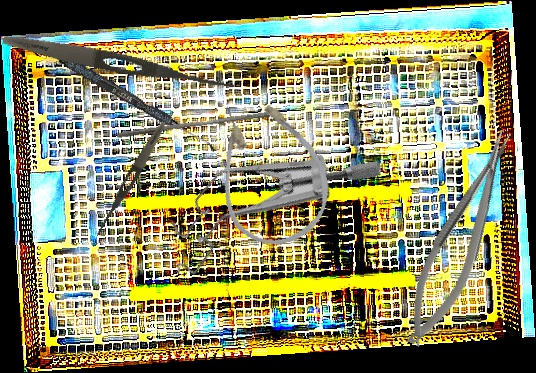Cannula: (200, 85, 341, 256)
Dressing Forceps: (1, 29, 236, 96), (92, 118, 170, 240)
Needle Holder: (389, 124, 534, 354)
Pusher: (116, 105, 270, 145)
Spatula Surgical: (26, 36, 220, 153)
Speculum: (144, 83, 388, 334)
